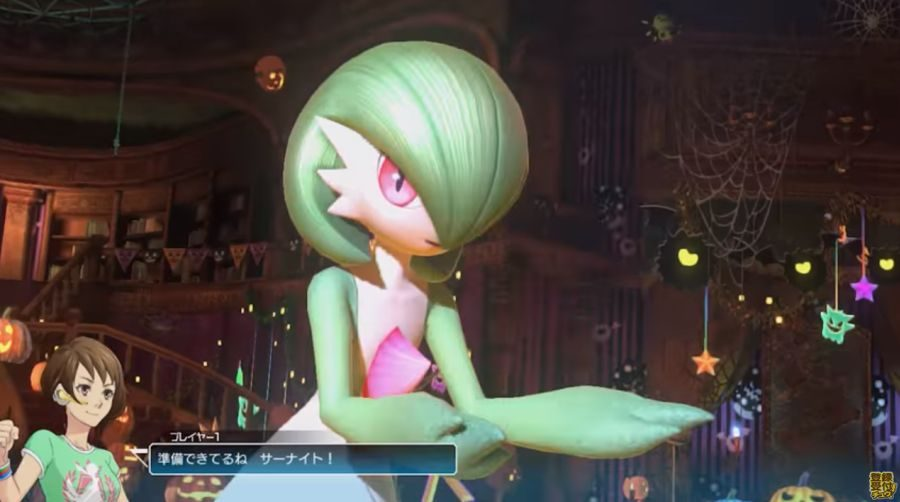gardevoir: (194, 35, 715, 502)
